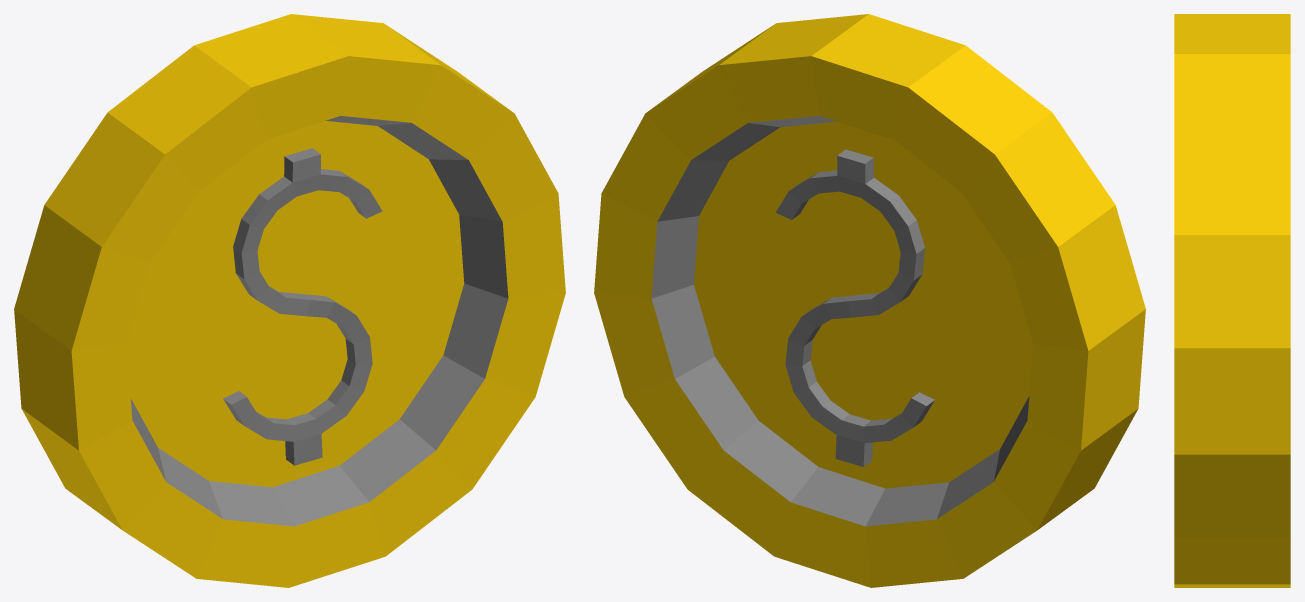
Rendered from coin.fbx.
The picture shows the model from 3 angles, left to right: view 1: azimuth 30°, elevation 25°; view 2: azimuth 150°, elevation 25°; view 3: azimuth 270°, elevation 25°; orthographic projection.
Visible parts, largest first — view 1: Cylinder; view 2: Cylinder; view 3: Cylinder.
Part boxes in pixels (x1,y1,x2,y2): Cylinder: (14, 14, 565, 587); Cylinder: (594, 14, 1145, 587); Cylinder: (1174, 14, 1290, 587).
Size of the model in its own units: 2.19 by 0.4415 by 2.19.
